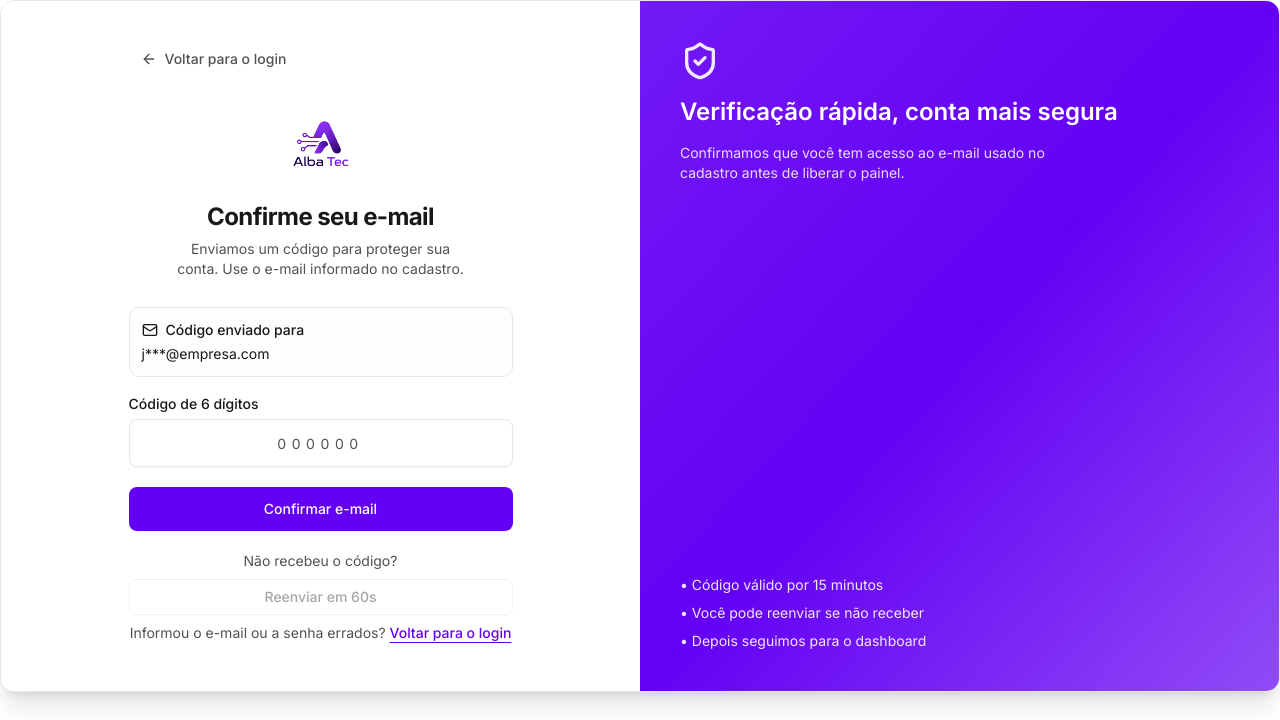
Scenario: VerifyEmailForm › mostra erro quando o código é inválido
Step 1. Type "123456" into the field labelled "Código de 6 dígitos" → (320, 443), box [128, 419, 512, 467]
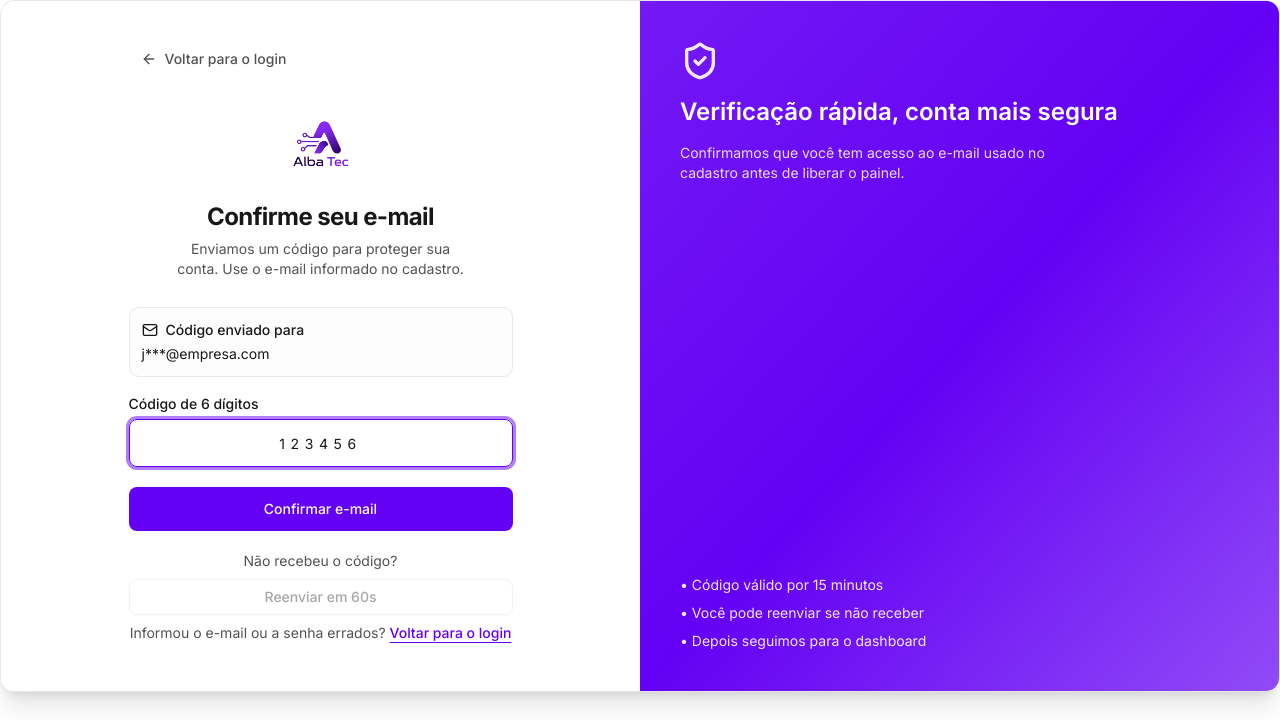
Step 2. Click the button "Confirmar e-mail" → (320, 509), box [128, 487, 512, 531]
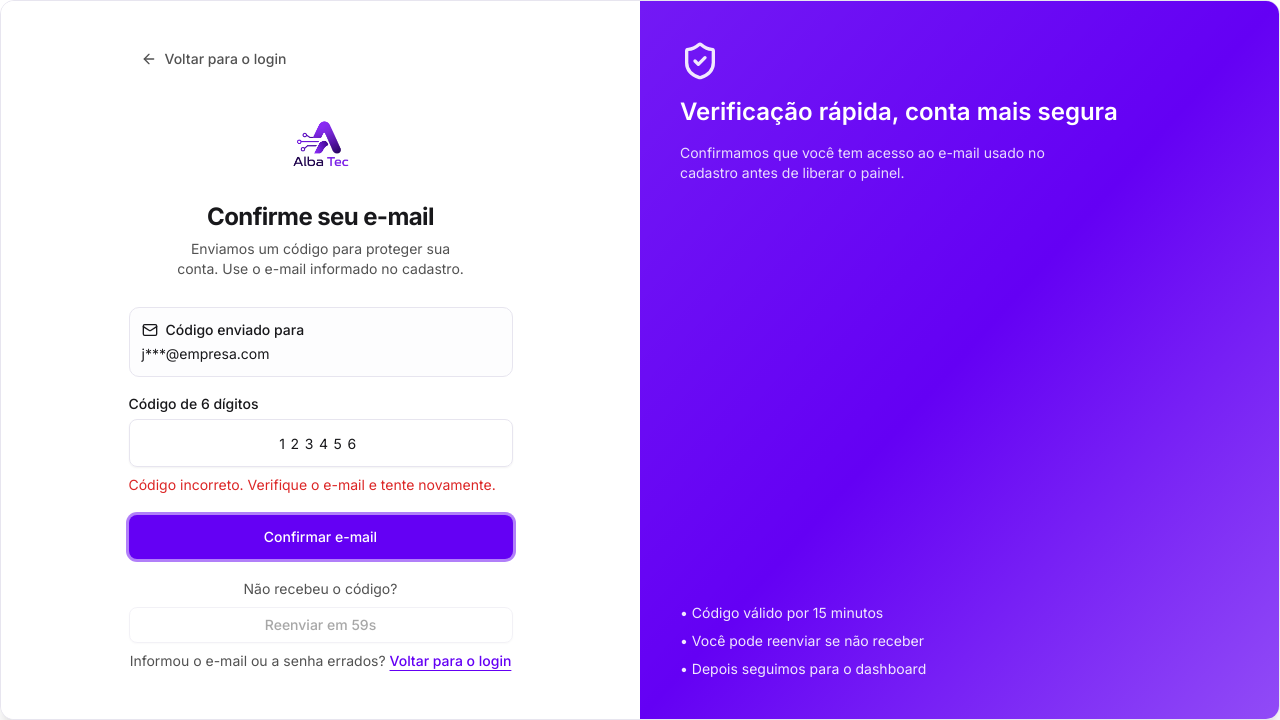
Result: the message shows "Código incorreto" at [128, 476, 496, 493]
